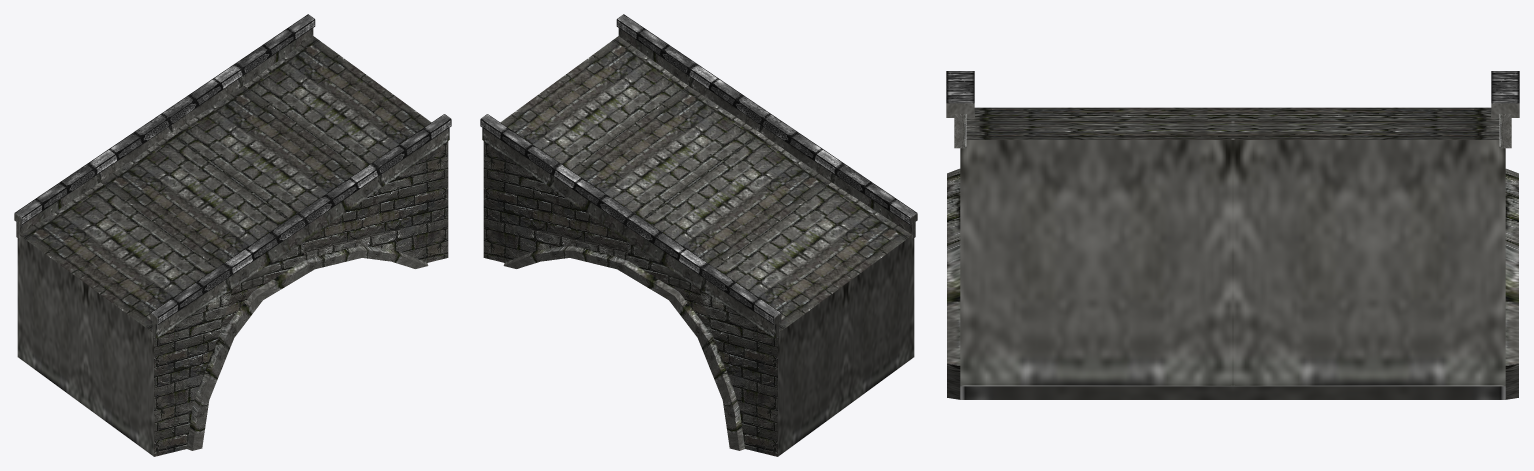
Rendered from stone_lod_rock_saka.FBX.
The picture shows the model from 3 angles, left to right: view 1: azimuth 30°, elevation 25°; view 2: azimuth 150°, elevation 25°; view 3: azimuth 270°, elevation 25°; orthographic projection. The views are drawn at different scales.
Parts seen in each view (by area): view 1: stone_lod_rock001_saka; view 2: stone_lod_rock001_saka; view 3: stone_lod_rock001_saka.
Part boxes in pixels (x1,y1,x2,y2): stone_lod_rock001_saka: [14, 14, 451, 456]; stone_lod_rock001_saka: [480, 14, 917, 456]; stone_lod_rock001_saka: [946, 71, 1519, 399].
Bounding box in the file's own units: 673 × 588 × 568.
